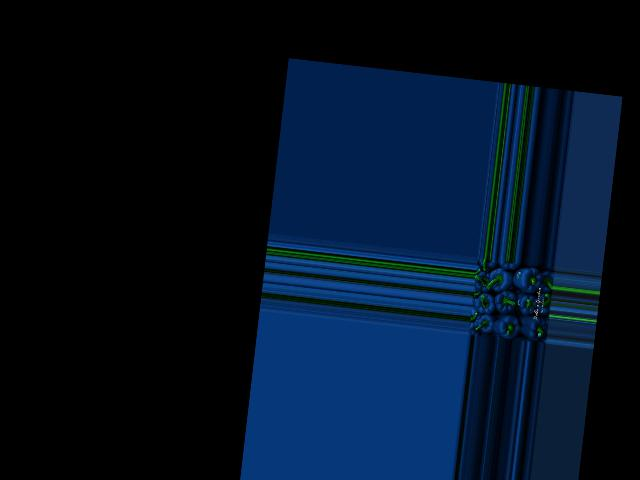bell_pepper: (536, 266, 555, 294)
